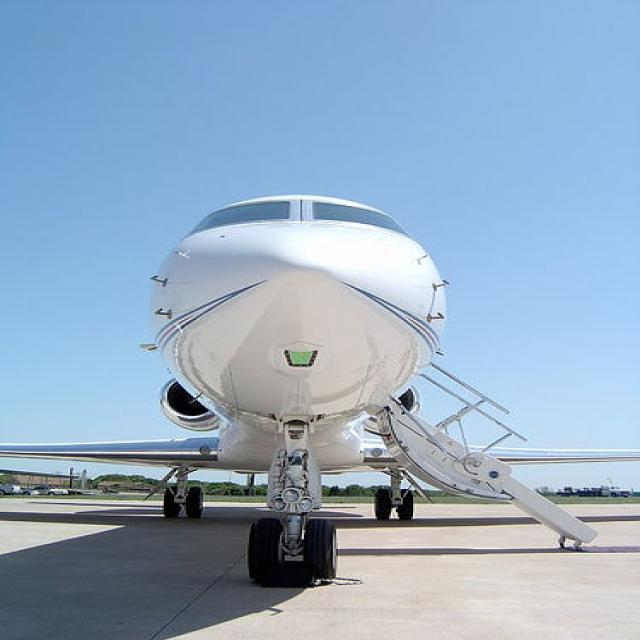aeroplane: (1, 194, 639, 589)
